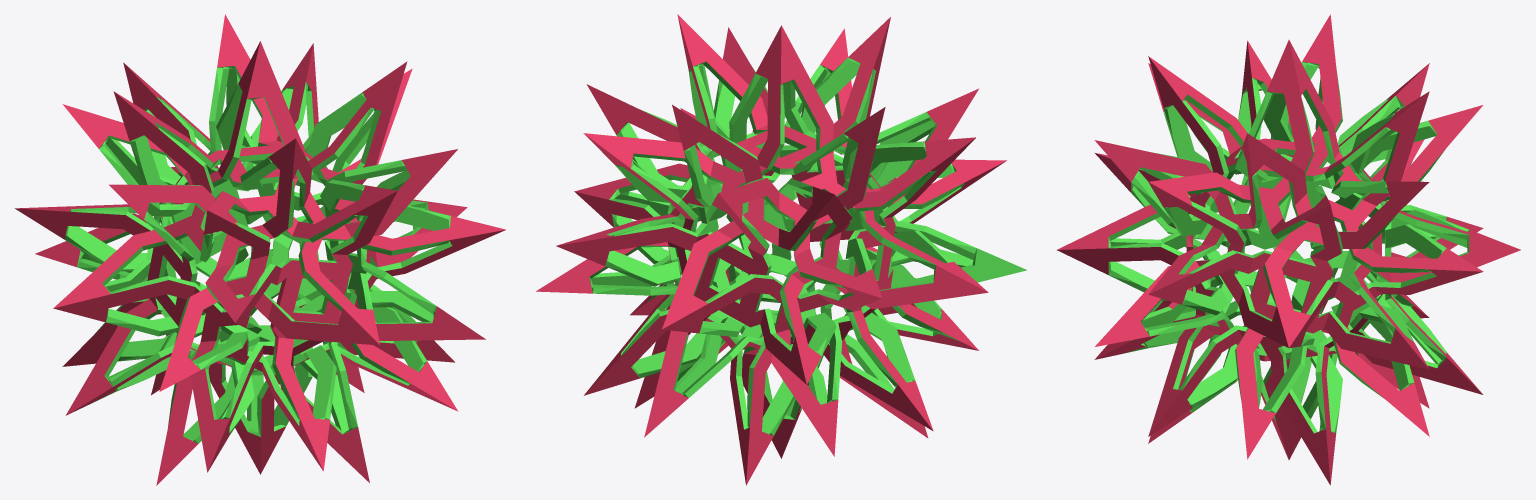
The model's file is StarPolyknotSnubCube1.glb.
The picture shows the model from 3 angles, left to right: view 1: azimuth 30°, elevation 25°; view 2: azimuth 150°, elevation 25°; view 3: azimuth 270°, elevation 25°; orthographic projection. The views are drawn at different scales.
Parts seen in each view (by area): view 1: ESCHER_BBBa_A7; view 2: ESCHER_BBBa_A7; view 3: ESCHER_BBBa_A7.
Boxes of the visible parts, x1,y1,x2,y2 form: ESCHER_BBBa_A7: (15,14,505,485); ESCHER_BBBa_A7: (536,14,1026,485); ESCHER_BBBa_A7: (1057,14,1520,485).
Size of the model in its own units: 150 by 150 by 150.
